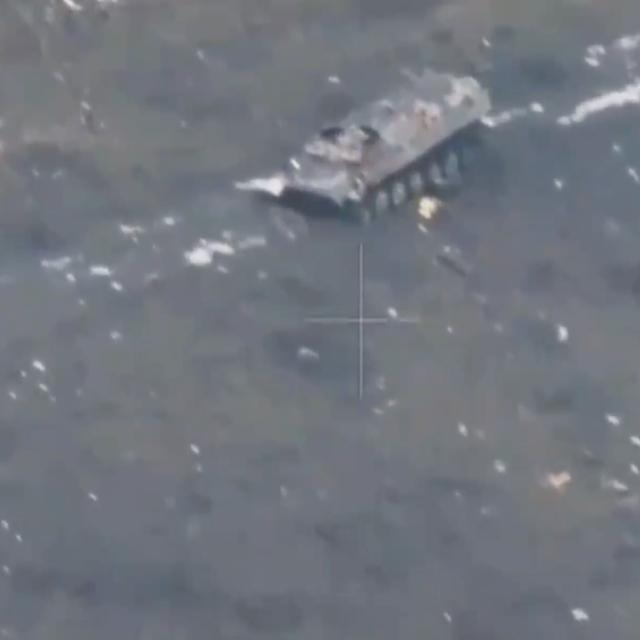vehicle: (264, 68, 492, 226)
